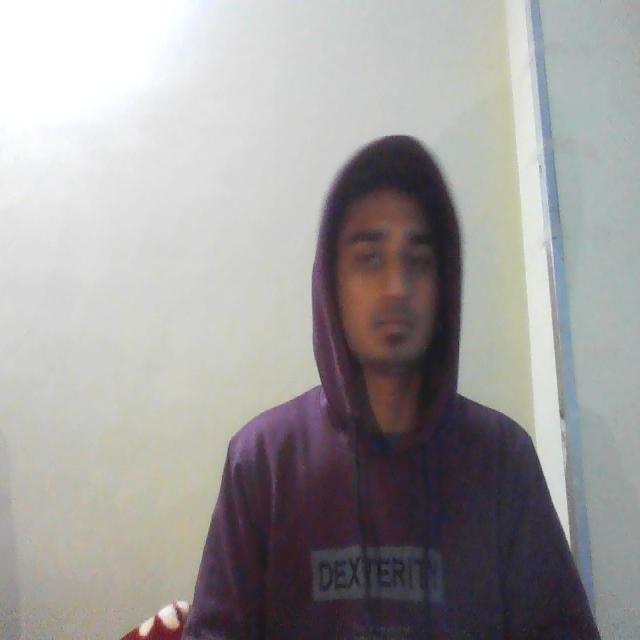real: (323, 139, 456, 389)
